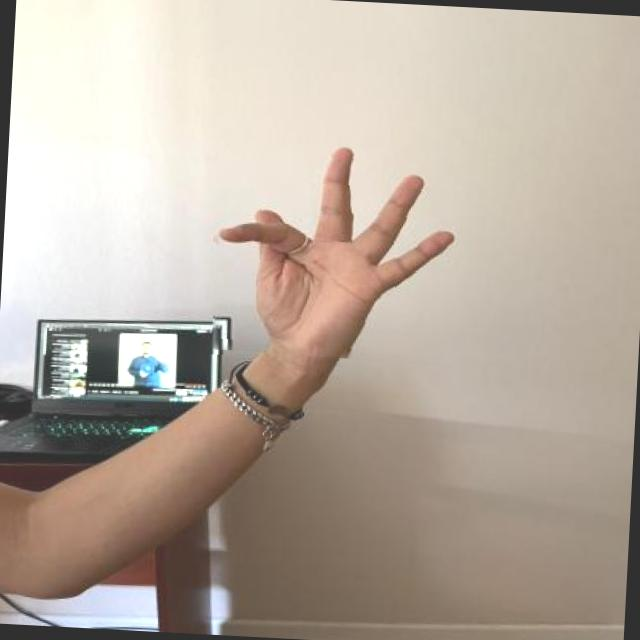F: (202, 140, 463, 367)
